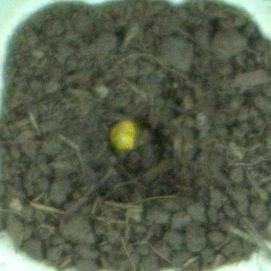pepper seed: (38, 43, 177, 195)
